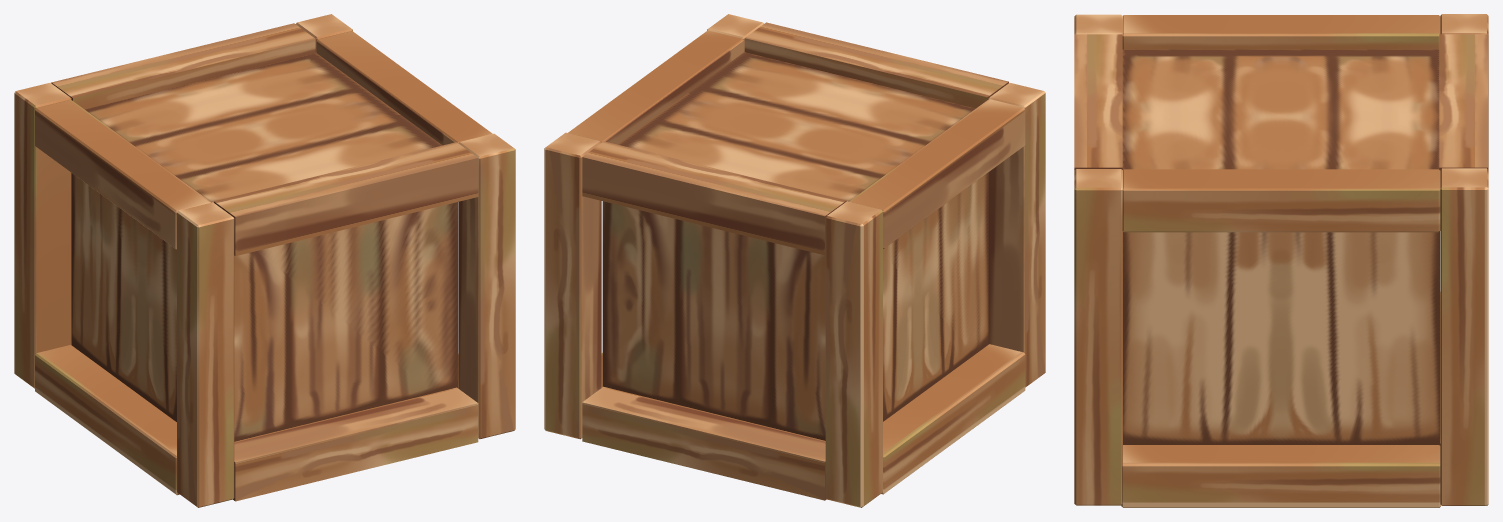
The model's file is Caixote.fbx.
3 renders of one model, left to right at view 1: azimuth 30°, elevation 25°; view 2: azimuth 150°, elevation 25°; view 3: azimuth 270°, elevation 25°, orthographic. The views are drawn at different scales.
Visible parts, largest first — view 1: Cube, Cube.001, Cube.002, Cube.004, Cube.006, Cube.003, Cube.005; view 2: Cube, Cube.006, Cube.002, Cube.004, Cube.001, Cube.003, Cube.005; view 3: Cube, Cube.004, Cube.005, Cube.006, Cube.001, Cube.002.
Part boxes in pixels (box(x1,y1,x2,y2)): Cube: box(71, 52, 457, 441); Cube.001: box(177, 133, 515, 507); Cube.002: box(51, 23, 478, 255); Cube.004: box(35, 31, 492, 249); Cube.006: box(14, 14, 352, 388); Cube.003: box(233, 387, 478, 501); Cube.005: box(35, 345, 458, 495); Cube: box(602, 52, 988, 440); Cube.006: box(544, 132, 882, 507); Cube.002: box(582, 22, 1008, 255); Cube.004: box(568, 30, 1025, 248); Cube.001: box(707, 14, 1045, 387); Cube.003: box(582, 386, 826, 500); Cube.005: box(601, 344, 1025, 494); Cube: box(1122, 49, 1439, 445); Cube.004: box(1122, 15, 1440, 232); Cube.005: box(1121, 292, 1440, 507); Cube.006: box(1440, 14, 1488, 505); Cube.001: box(1074, 14, 1122, 505); Cube.002: box(1074, 34, 1487, 170).
Bounding box in the file's own units: 453 × 387 × 453.
